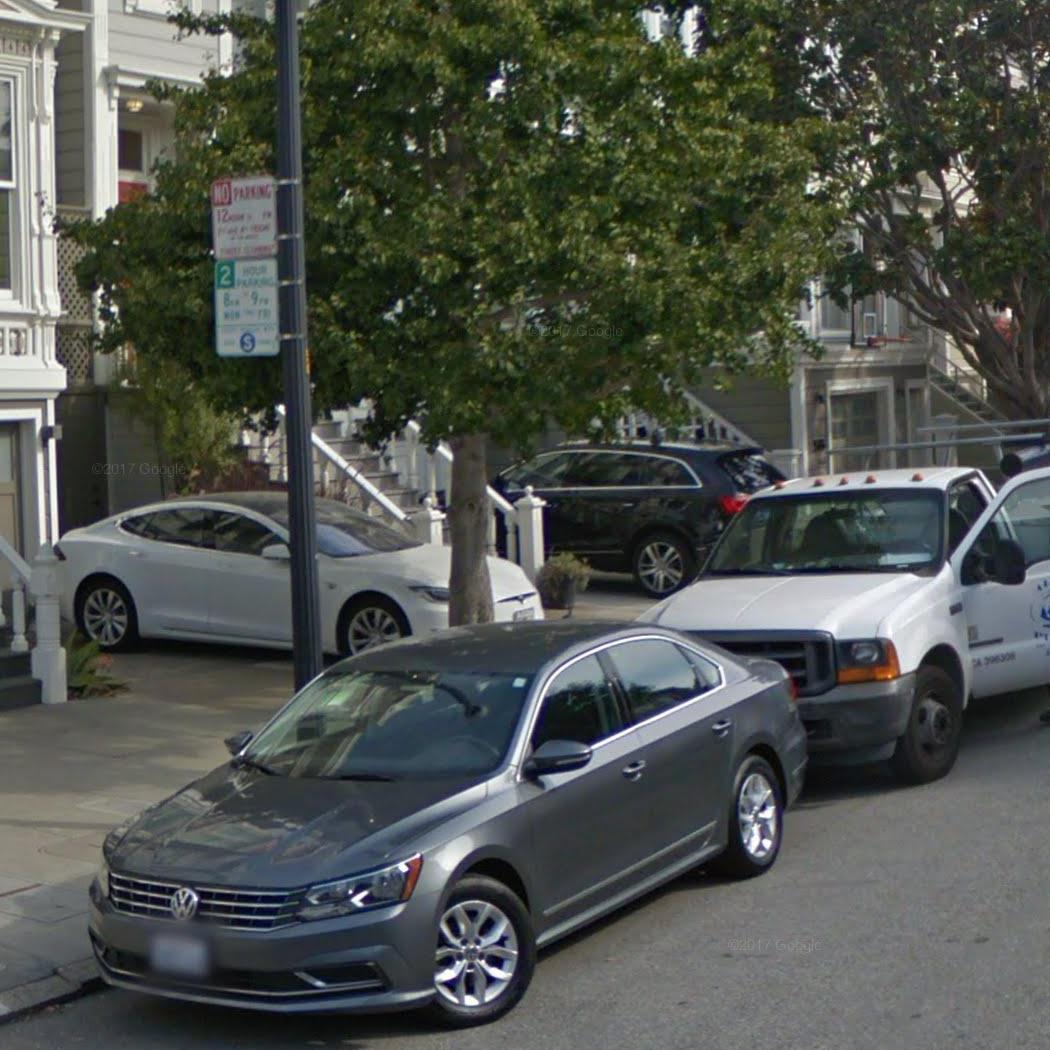2 Hour Parking: (211, 257, 282, 360)
No Parking: (207, 172, 279, 263)
